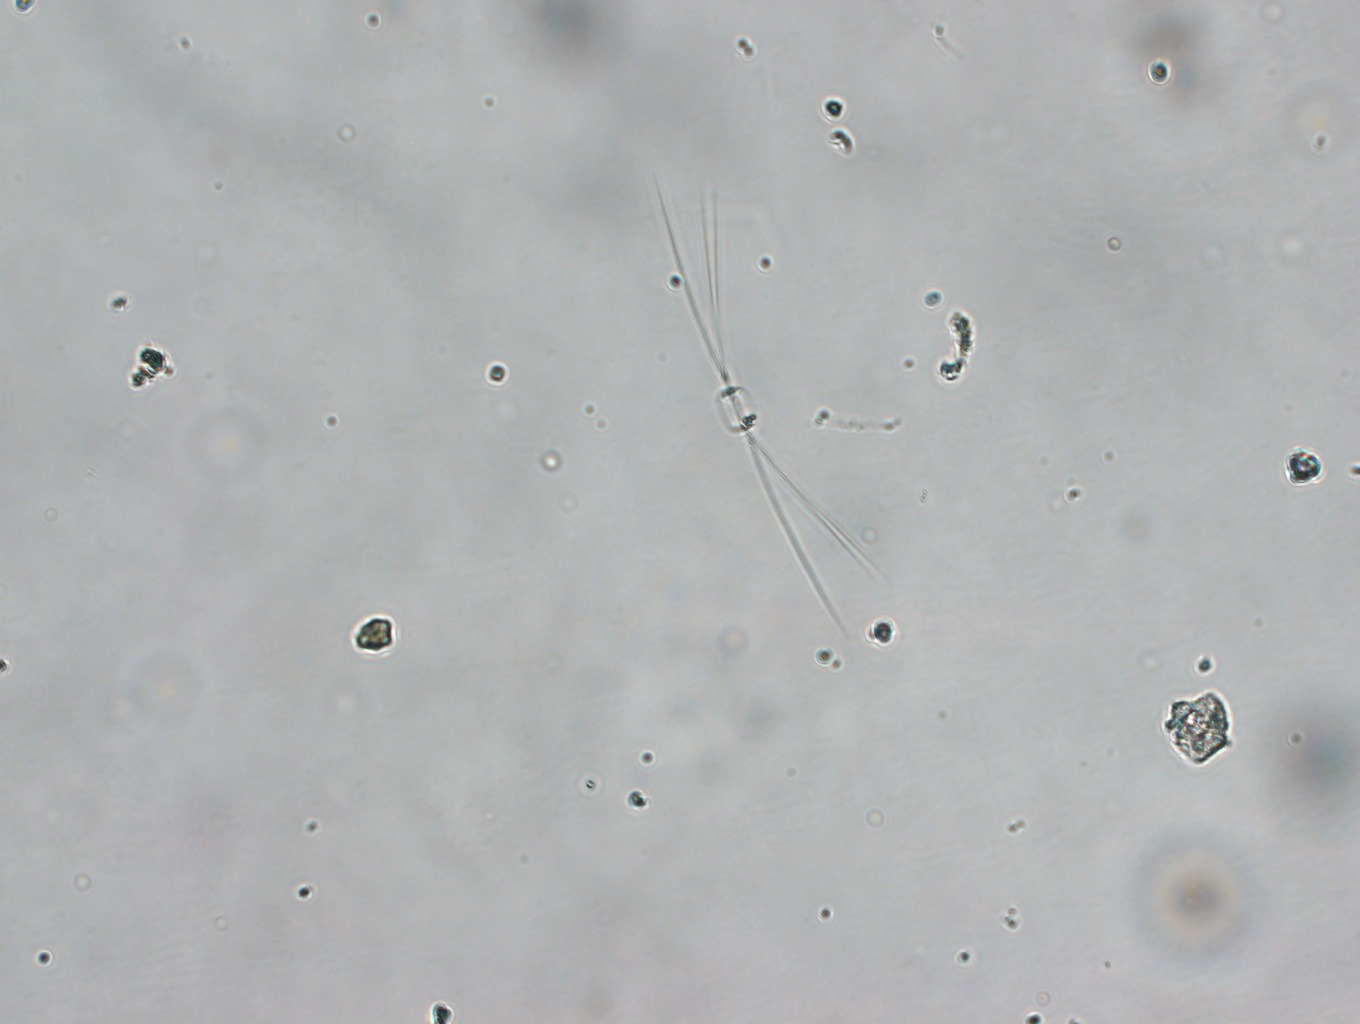chaetoceros: (639, 163, 853, 598)
